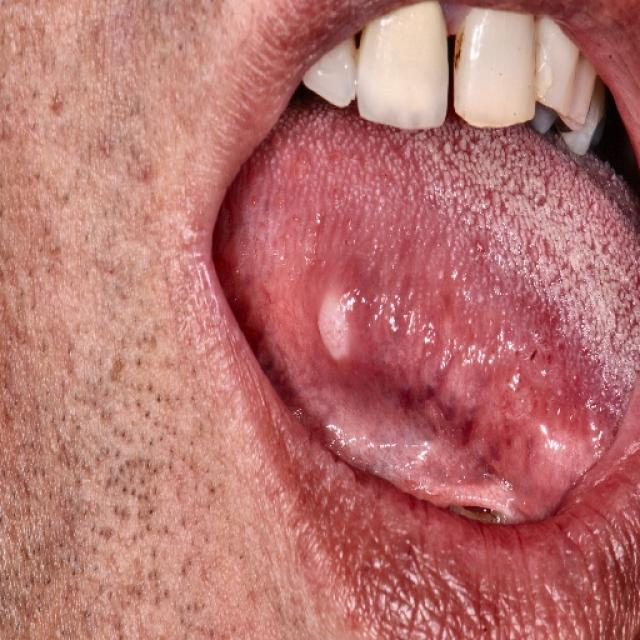cancer-detection: (291, 234, 609, 521)
processing_area: (217, 108, 638, 534)
